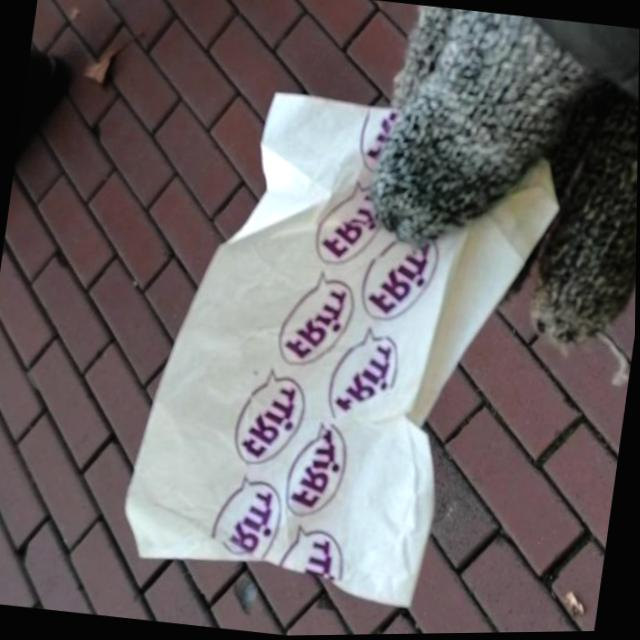Plastic: (111, 71, 574, 626)
